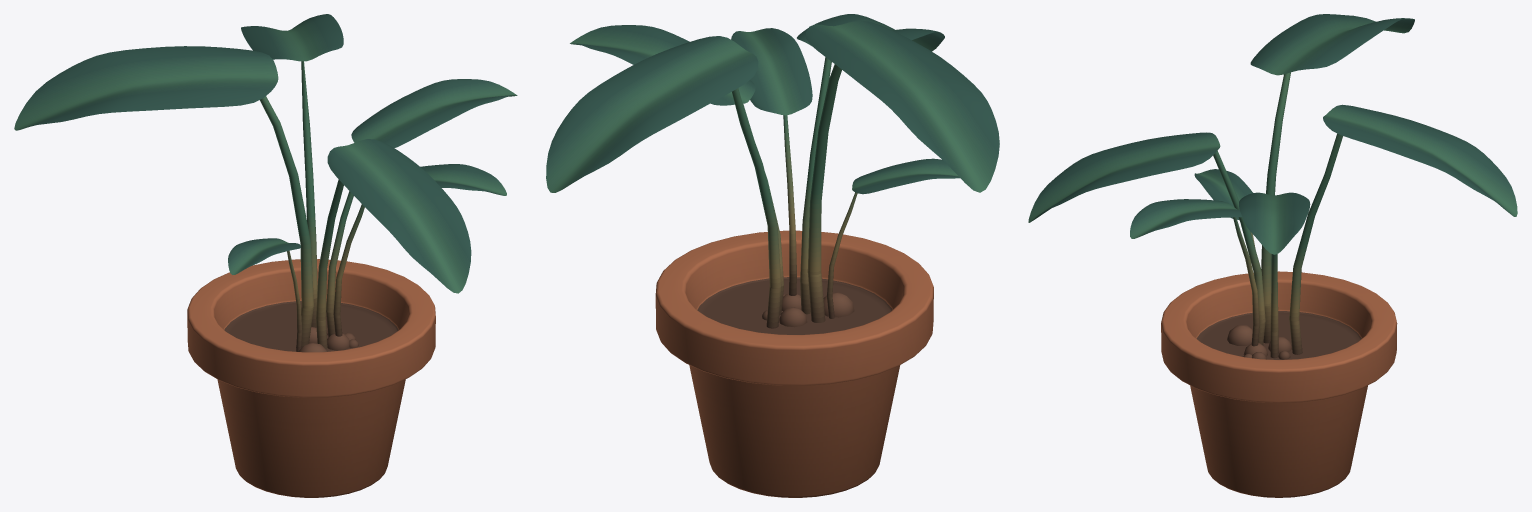
The model's file is ArtificialPlant.glb.
The picture shows the model from 3 angles, left to right: view 1: azimuth 30°, elevation 25°; view 2: azimuth 150°, elevation 25°; view 3: azimuth 270°, elevation 25°; orthographic projection. The views are drawn at different scales.
Parts seen in each view (by area): view 1: Pot, Plane.002, Plane.003, Plane, Plane.001, Branch.002, Branch.001, Plane.004, Branch.003, Plane.005, Branch, Branch.004; view 2: Pot, Plane.001, Plane.002, Plane.004, Plane, Branch.002, Branch.001, Plane.005, Branch.003, Plane.003, Branch.004, Branch.005 (+1 smaller); view 3: Pot, Plane.001, Plane.003, Plane.002, Plane, Plane.004, Branch.001, Branch.002, Branch.003, Plane.005, Branch, Branch.004.
Boxes of the visible parts, bbox=[...] form: Pot: bbox=[187, 259, 435, 497]; Plane.002: bbox=[14, 46, 278, 130]; Plane.003: bbox=[327, 139, 471, 293]; Plane: bbox=[351, 79, 517, 147]; Plane.001: bbox=[241, 14, 343, 61]; Branch.002: bbox=[260, 96, 313, 347]; Branch.001: bbox=[301, 61, 317, 327]; Plane.004: bbox=[420, 164, 506, 195]; Branch.003: bbox=[316, 179, 343, 349]; Plane.005: bbox=[228, 238, 300, 274]; Branch: bbox=[326, 191, 353, 337]; Branch.004: bbox=[333, 204, 364, 336]; Pot: bbox=[655, 230, 933, 497]; Plane.001: bbox=[546, 36, 758, 192]; Plane.002: bbox=[806, 20, 999, 192]; Plane.004: bbox=[731, 28, 812, 115]; Plane: bbox=[570, 25, 755, 105]; Branch.002: bbox=[807, 64, 841, 322]; Branch.001: bbox=[732, 88, 781, 328]; Plane.005: bbox=[852, 158, 959, 194]; Branch.003: bbox=[800, 57, 831, 314]; Plane.003: bbox=[797, 14, 944, 51]; Branch.004: bbox=[783, 115, 796, 295]; Branch.005: bbox=[827, 192, 857, 318]; Pot: bbox=[1161, 271, 1397, 497]; Plane.001: bbox=[1323, 104, 1517, 216]; Plane.003: bbox=[1028, 132, 1220, 222]; Plane.002: bbox=[1250, 14, 1414, 75]; Plane: bbox=[1239, 192, 1310, 254]; Plane.004: bbox=[1130, 199, 1242, 238]; Branch.001: bbox=[1289, 133, 1342, 354]; Branch.002: bbox=[1261, 72, 1290, 343]; Branch.003: bbox=[1213, 151, 1265, 345]; Plane.005: bbox=[1194, 169, 1252, 219]; Branch: bbox=[1270, 254, 1278, 358]; Branch.004: bbox=[1233, 217, 1259, 346].
Bounding box in the file's own units: 4.65 × 4.17 × 4.77.
Materials: 1 (1 with a texture image).
